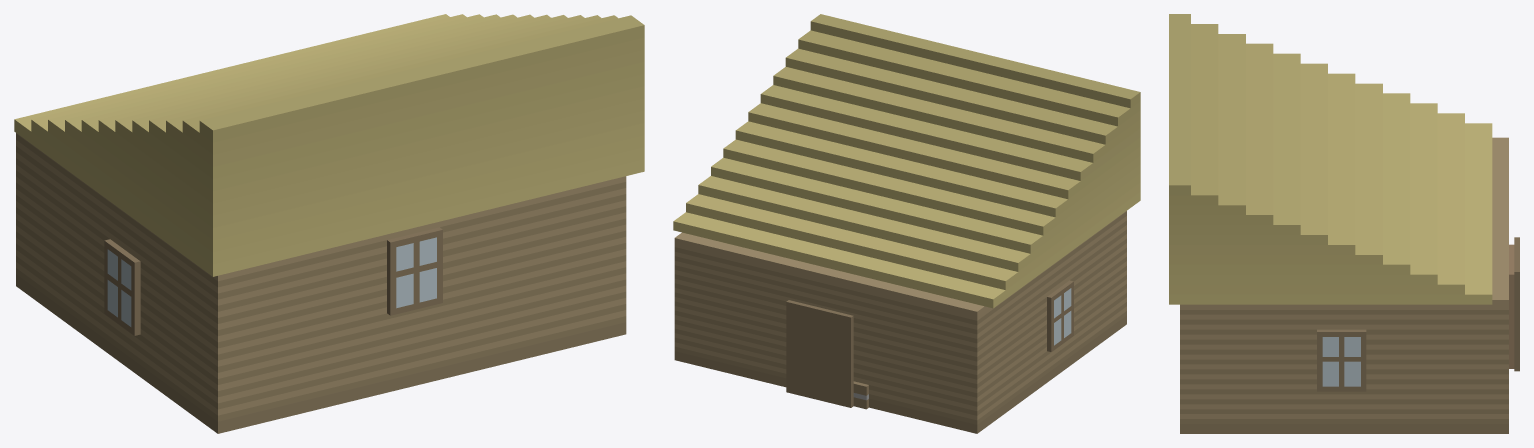
Rendered from cabana_cazador_03.glb.
3 renders of one model, left to right at view 1: azimuth 30°, elevation 25°; view 2: azimuth 150°, elevation 25°; view 3: azimuth 270°, elevation 25°, orthographic. The views are drawn at different scales.
Parts seen in each view (by area): view 1: cabana_cazador_03; view 2: cabana_cazador_03; view 3: cabana_cazador_03.
Boxes of the visible parts, x1=… form: cabana_cazador_03: x1=14, y1=14, x2=644, y2=433; cabana_cazador_03: x1=673, y1=14, x2=1140, y2=433; cabana_cazador_03: x1=1169, y1=14, x2=1519, y2=433.
Bounding box in the file's own units: 7.4 × 5.1 × 6.4.
